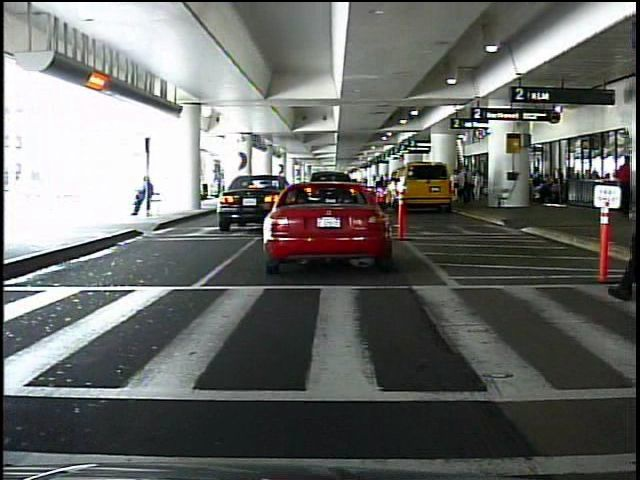person: (611, 148, 640, 304), (617, 155, 633, 215)
